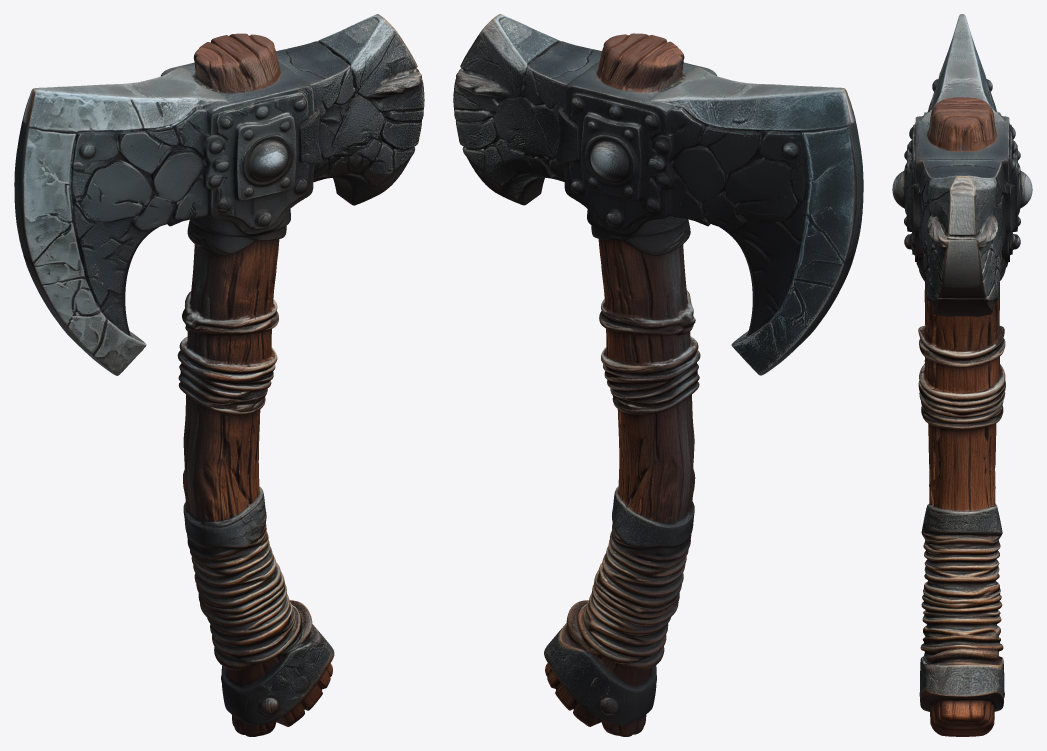
The model's file is PF_Axe11.glb.
3 renders of one model, left to right at view 1: azimuth 30°, elevation 25°; view 2: azimuth 150°, elevation 25°; view 3: azimuth 270°, elevation 25°, orthographic. The views are drawn at different scales.
Bounding box in the file's own units: 1.13 × 1.9 × 0.3879.
Materials: 1 (1 with a texture image).
